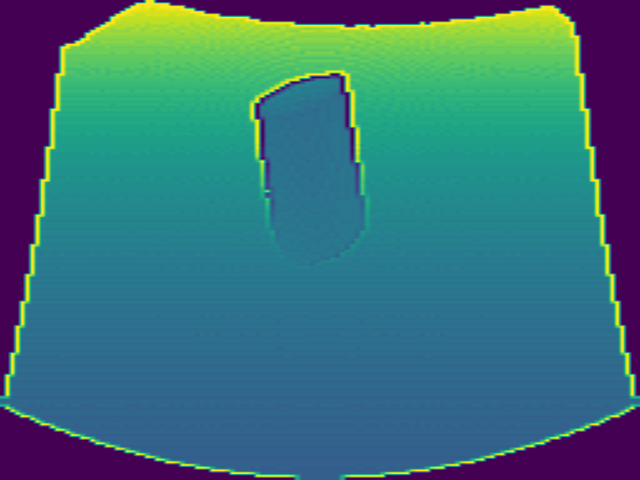cylinder: (248, 70, 369, 264)
